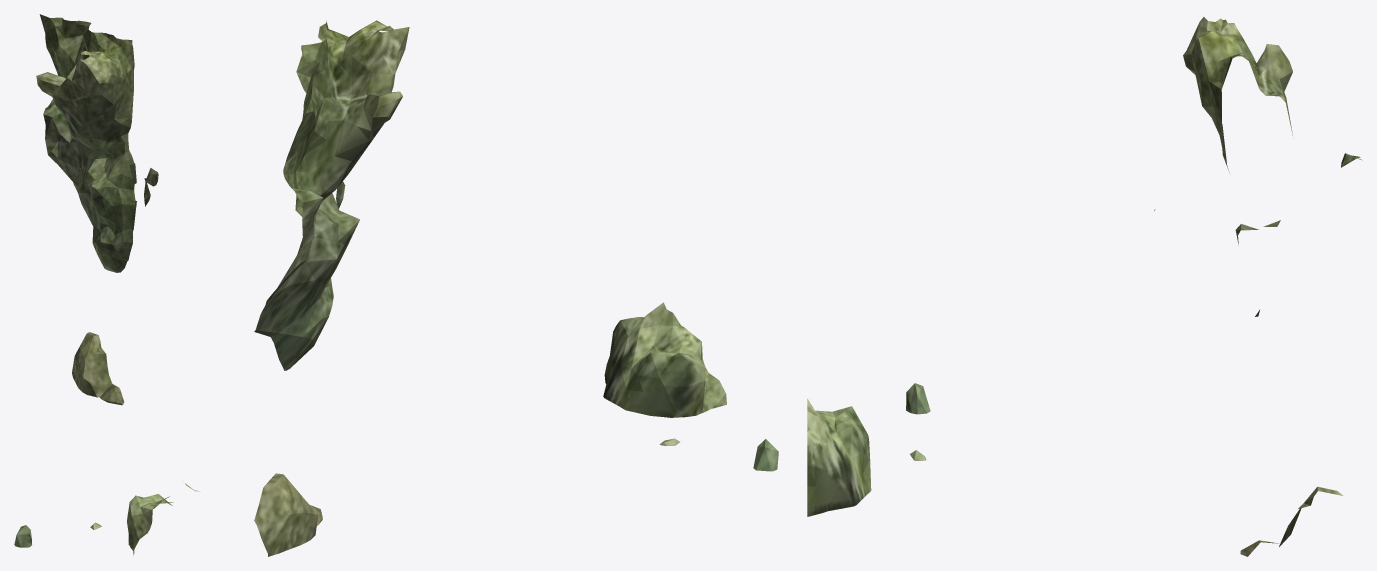
3 views of the same model, side by side, from view 1: azimuth 30°, elevation 25°; view 2: azimuth 150°, elevation 25°; view 3: azimuth 270°, elevation 25° (orthographic). The views are drawn at different scales.
Bounding box in the file's own units: 7.71 × 11.8 × 11.8.
1 material, 1 textured.
